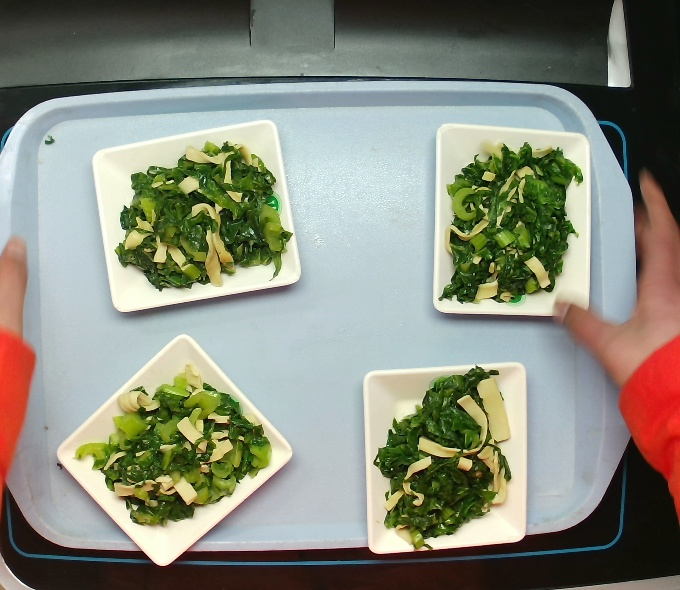wcq-QingCaiChaoQianZhang: (76, 367, 278, 527), (100, 139, 299, 301), (438, 133, 589, 311), (378, 365, 504, 551)
